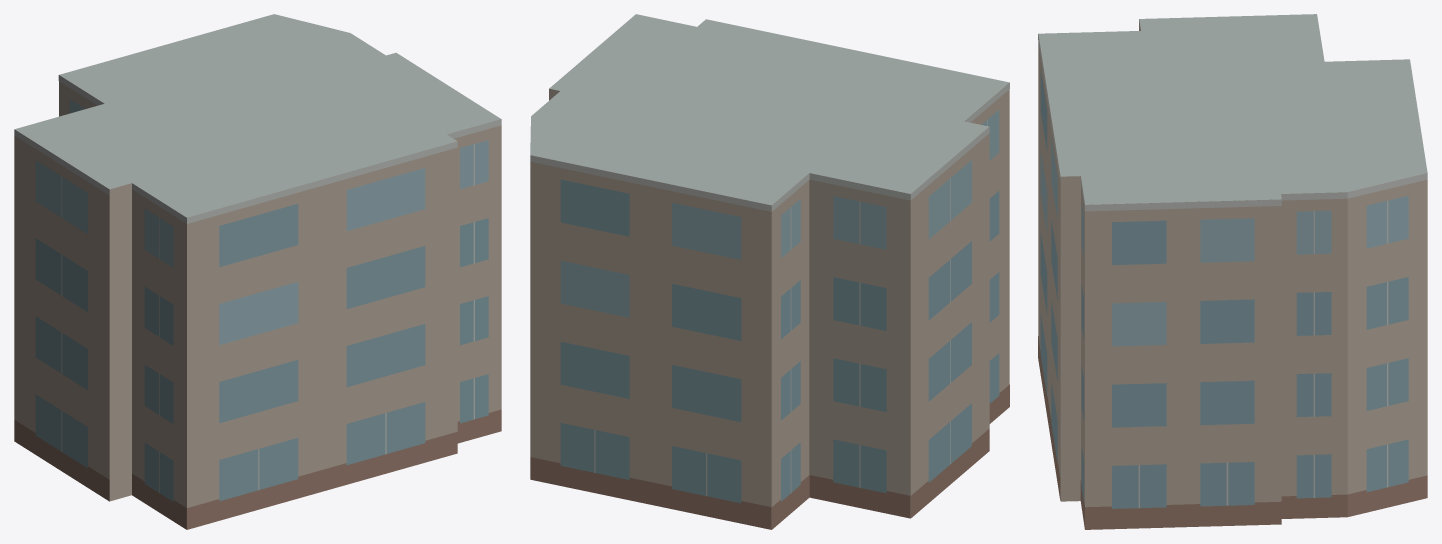
File: residential-9f13d743-3cb5-4792-a6a0-1cdad46633e8.glb
The picture shows the model from 3 angles, left to right: view 1: azimuth 30°, elevation 25°; view 2: azimuth 150°, elevation 25°; view 3: azimuth 270°, elevation 25°; orthographic projection. The views are drawn at different scales.
Visible parts, largest first — view 1: residential-9f13d743-3cb5-4792-a6a0-1cdad46633e8.tmp; view 2: residential-9f13d743-3cb5-4792-a6a0-1cdad46633e8.tmp; view 3: residential-9f13d743-3cb5-4792-a6a0-1cdad46633e8.tmp.
Boxes of the visible parts, <box> form: residential-9f13d743-3cb5-4792-a6a0-1cdad46633e8.tmp: <box>14,14,501,529</box>; residential-9f13d743-3cb5-4792-a6a0-1cdad46633e8.tmp: <box>530,14,1009,529</box>; residential-9f13d743-3cb5-4792-a6a0-1cdad46633e8.tmp: <box>1038,14,1427,529</box>.
Size of the model in its own units: 15.38 by 12.2 by 13.26.
